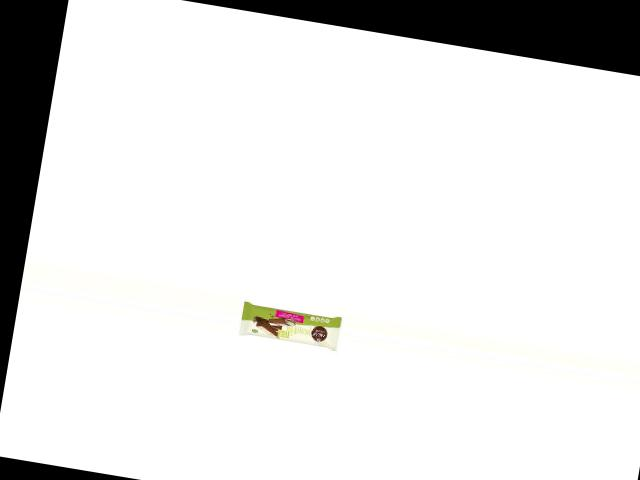chocolate: (236, 297, 342, 353)
